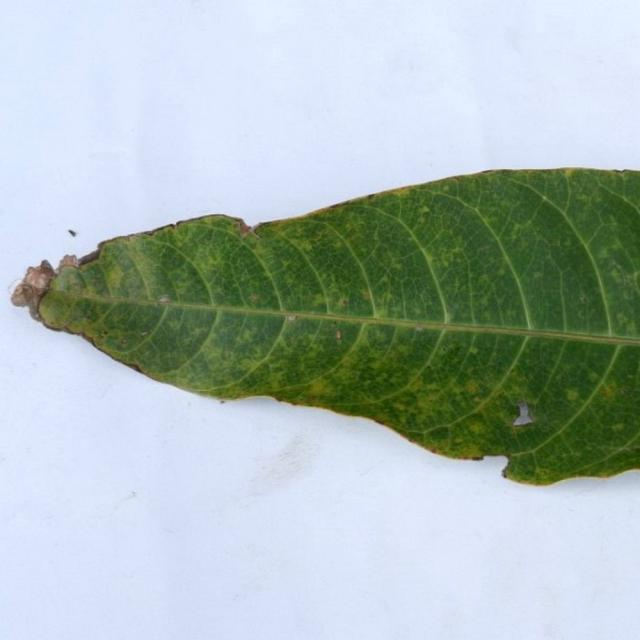Mango: (36, 168, 639, 484)
Powdery_Mildew: (113, 235, 186, 302), (368, 233, 440, 281), (574, 174, 634, 224), (67, 253, 113, 307), (249, 393, 347, 418), (547, 245, 573, 331), (508, 461, 581, 486), (177, 214, 246, 235), (304, 369, 337, 402), (198, 246, 230, 276), (335, 294, 353, 345), (596, 439, 635, 461), (439, 443, 489, 459), (103, 257, 127, 290), (41, 314, 74, 335), (479, 453, 512, 472), (388, 181, 432, 195), (321, 196, 362, 211), (464, 371, 484, 399), (421, 444, 463, 457), (287, 392, 324, 406), (208, 392, 255, 402), (617, 269, 640, 288), (10, 285, 30, 306), (426, 426, 452, 442), (508, 397, 535, 412), (249, 220, 274, 236), (33, 270, 52, 290), (125, 360, 146, 375), (375, 274, 393, 291), (500, 457, 514, 478), (610, 264, 627, 281), (20, 283, 38, 299), (29, 304, 45, 321), (600, 384, 617, 399), (448, 245, 465, 260), (39, 259, 53, 275), (312, 293, 329, 306), (468, 423, 485, 435), (616, 312, 629, 326), (240, 329, 254, 342), (598, 247, 612, 260), (565, 389, 580, 401), (441, 310, 453, 325), (563, 167, 580, 177), (478, 274, 491, 287), (69, 281, 82, 293), (513, 419, 530, 428), (587, 371, 599, 382), (479, 169, 505, 174), (440, 344, 453, 353), (511, 422, 523, 431), (612, 423, 625, 431), (468, 346, 479, 355), (619, 386, 631, 394), (249, 294, 261, 302), (362, 291, 372, 300), (532, 271, 543, 279), (612, 168, 629, 173), (579, 294, 588, 303), (339, 298, 349, 306), (501, 468, 508, 479), (421, 206, 430, 214), (452, 175, 464, 181), (335, 330, 342, 340), (274, 395, 284, 402), (287, 336, 295, 344), (367, 193, 376, 200), (287, 315, 296, 322), (149, 229, 158, 236), (170, 222, 179, 229), (429, 447, 439, 453), (414, 326, 424, 332), (309, 394, 318, 400), (101, 330, 108, 337), (120, 338, 127, 344), (330, 321, 337, 327), (141, 331, 148, 336), (220, 400, 225, 404)
